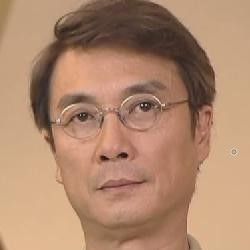unmask: (48, 39, 197, 228)
